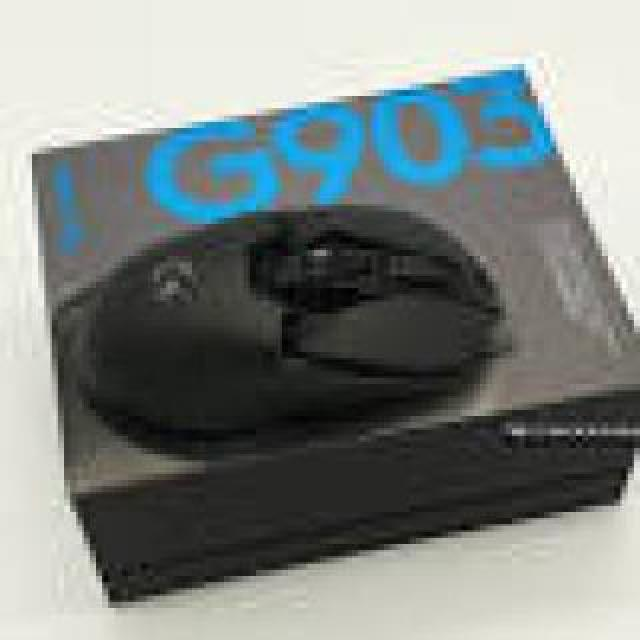mouse: (70, 185, 515, 407)
